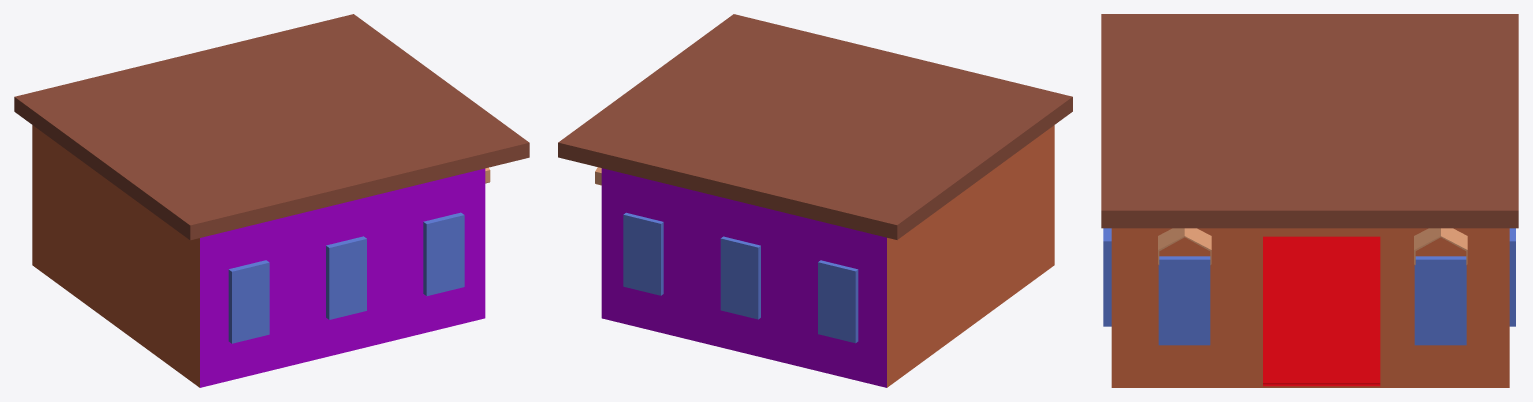
Rendered from domek_najnowszy_gotowy.fbx.
3 renders of one model, left to right at view 1: azimuth 30°, elevation 25°; view 2: azimuth 150°, elevation 25°; view 3: azimuth 270°, elevation 25°, orthographic. The views are drawn at different scales.
Visible parts, largest first — view 1: Plane.006, Plane; view 2: Plane.006, Plane; view 3: Plane, Plane.006.
Boxes of the visible parts, left/top/right/bottom form: Plane.006: left=14, top=105, right=529, bottom=387; Plane: left=14, top=14, right=529, bottom=233; Plane.006: left=558, top=104, right=1072, bottom=387; Plane: left=558, top=14, right=1072, bottom=232; Plane: left=1101, top=14, right=1518, bottom=219; Plane.006: left=1101, top=219, right=1518, bottom=387.
Bounding box in the file's own units: 3.45 × 1.64 × 3.09.
